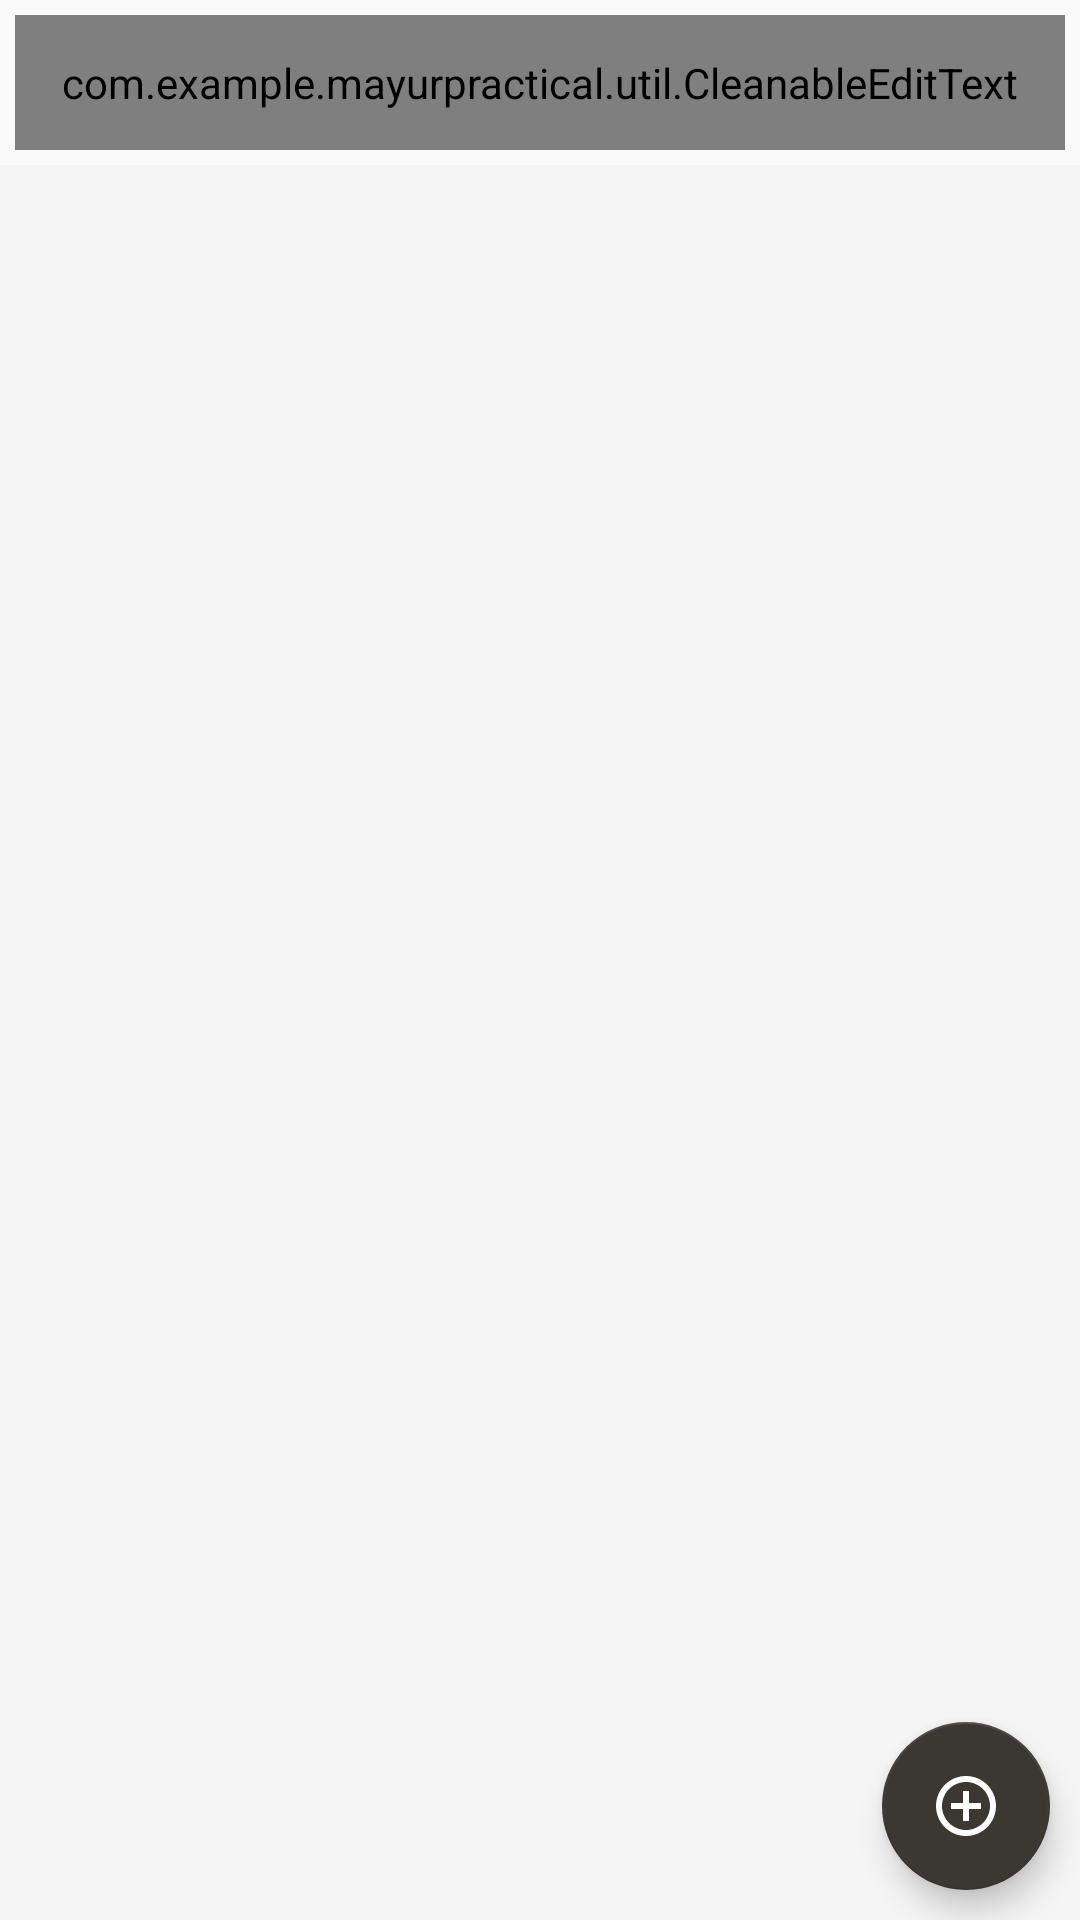

Where icons sit on this 1080px×1920px app screen, as (x1, y1, x2, y2):
add circle: (882, 1722, 1050, 1890)
